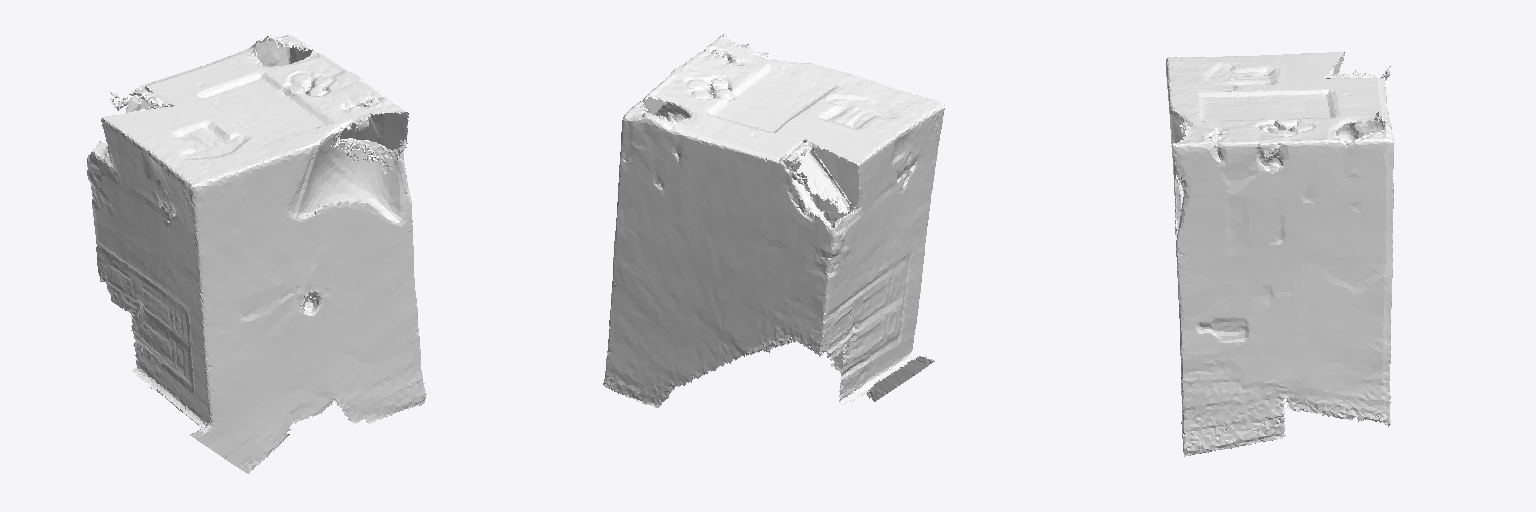
File: GameRoomTestModel.obj
3 renders of one model, left to right at view 1: azimuth 30°, elevation 25°; view 2: azimuth 150°, elevation 25°; view 3: azimuth 270°, elevation 25°, orthographic.
Size of the model in its own units: 3.16 by 4.15 by 2.55.